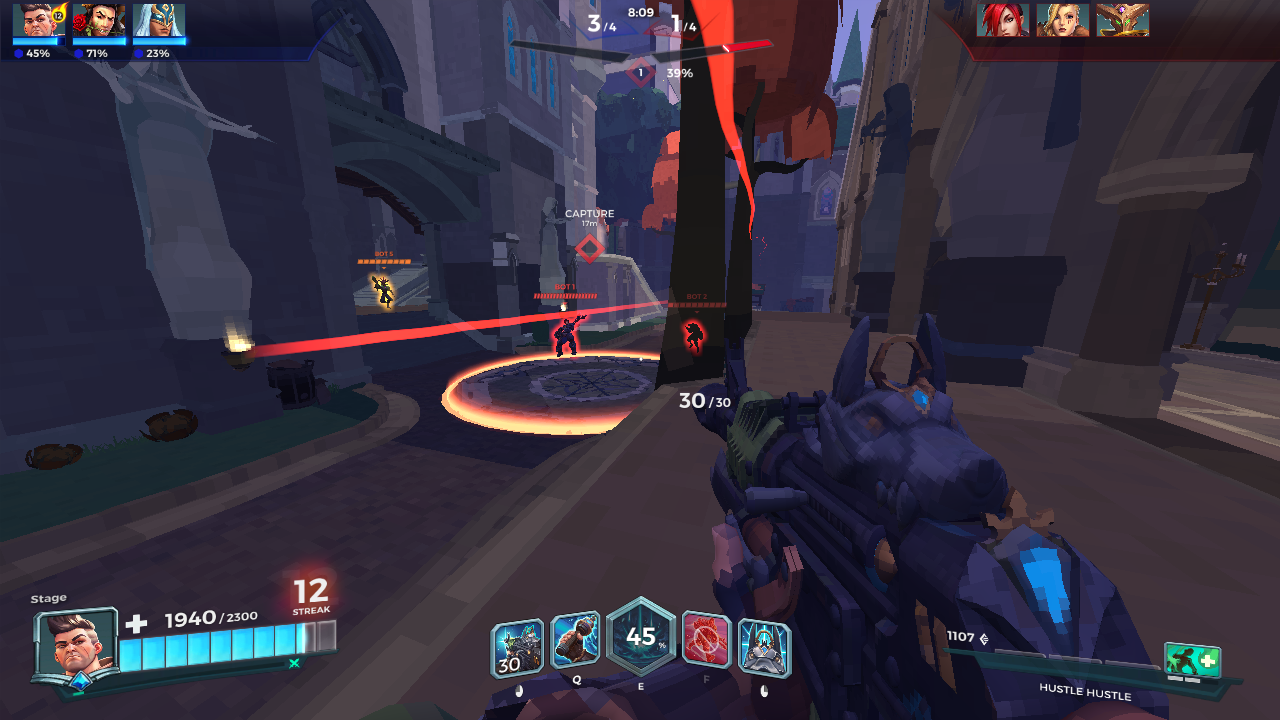model: (545, 310, 586, 361), (369, 274, 396, 315), (681, 316, 707, 355)
